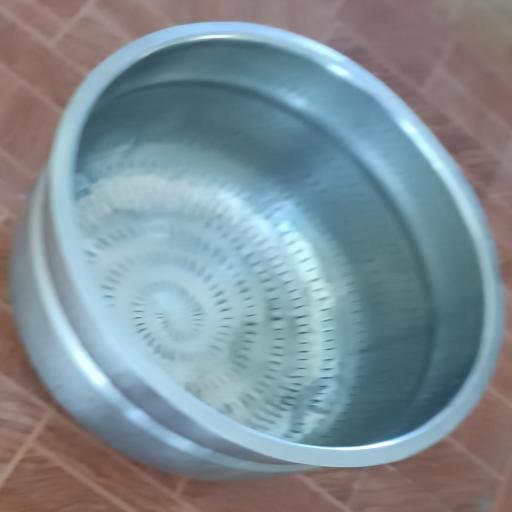vessel: (11, 23, 502, 479)
